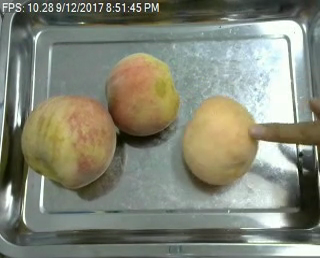Peach: (20, 93, 115, 189), (182, 92, 259, 184), (104, 51, 180, 137)
